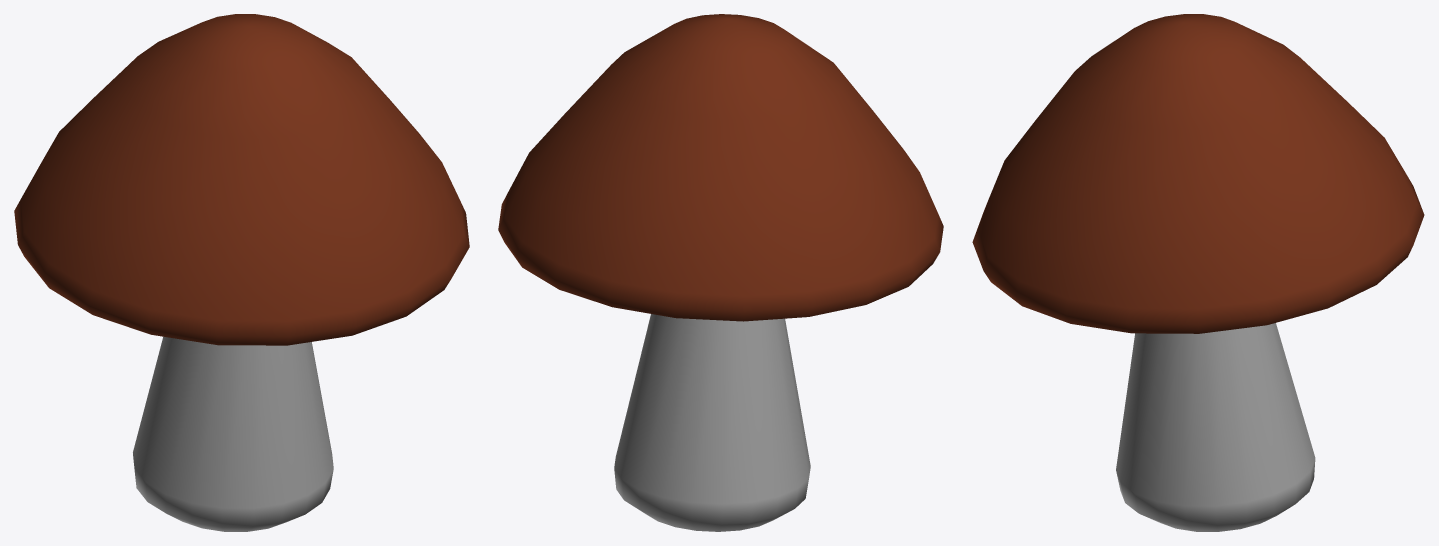
File: Mushroom_1_Mesh.fbx
3 views of the same model, side by side, from view 1: azimuth 30°, elevation 25°; view 2: azimuth 150°, elevation 25°; view 3: azimuth 270°, elevation 25° (orthographic). The views are drawn at different scales.
Visible parts, largest first — view 1: pCylinder3; view 2: pCylinder3; view 3: pCylinder3.
Boxes of the visible parts, left/top/right/bottom form: pCylinder3: left=14, top=14, right=469, bottom=531; pCylinder3: left=498, top=14, right=943, bottom=531; pCylinder3: left=972, top=14, right=1424, bottom=531.
Bounding box in the file's own units: 1.16 × 1.36 × 1.15.
